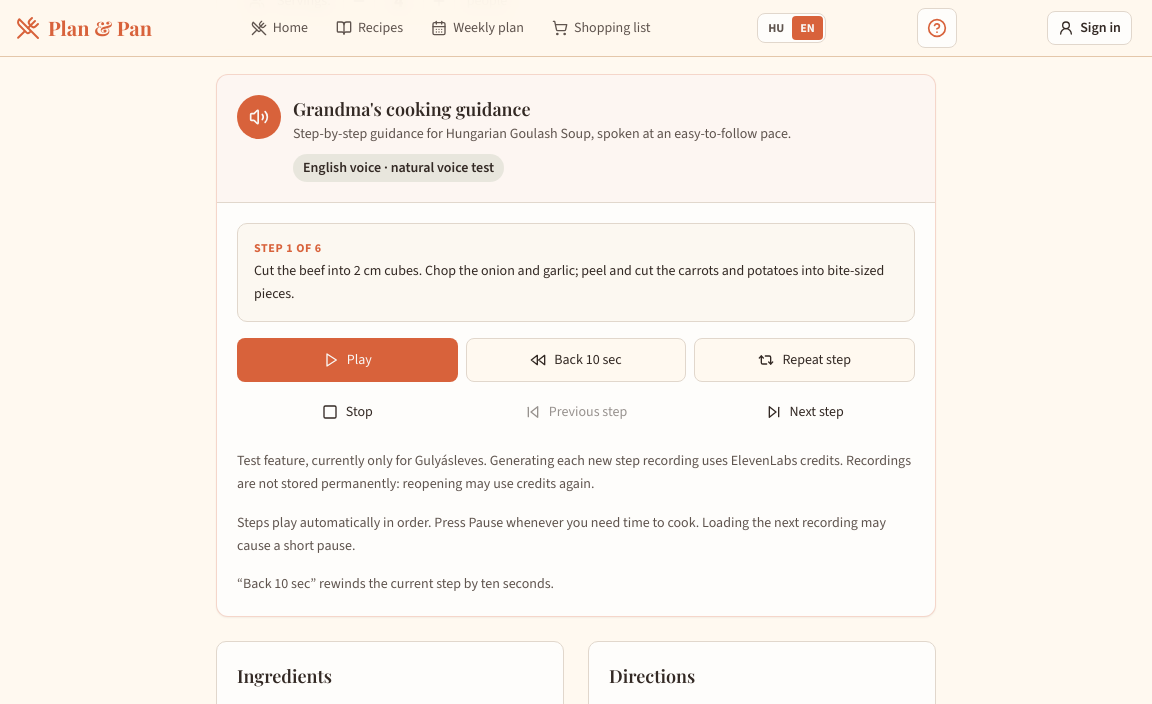
Test case: Hungarian and English custom voice guidance › only offers test guidance for soup-2: soup-2 in en
(page scrolled)
Expected: the element with test id "recipe-narrator" shows "Cut the beef into 2 cm cubes. Chop the onion and garlic; peel and cut the carrots and potatoes into bite-sized pieces.", [254,261,884,303]
Step 1. Click the button "Play" → [347, 360], box [237,338,458,382]
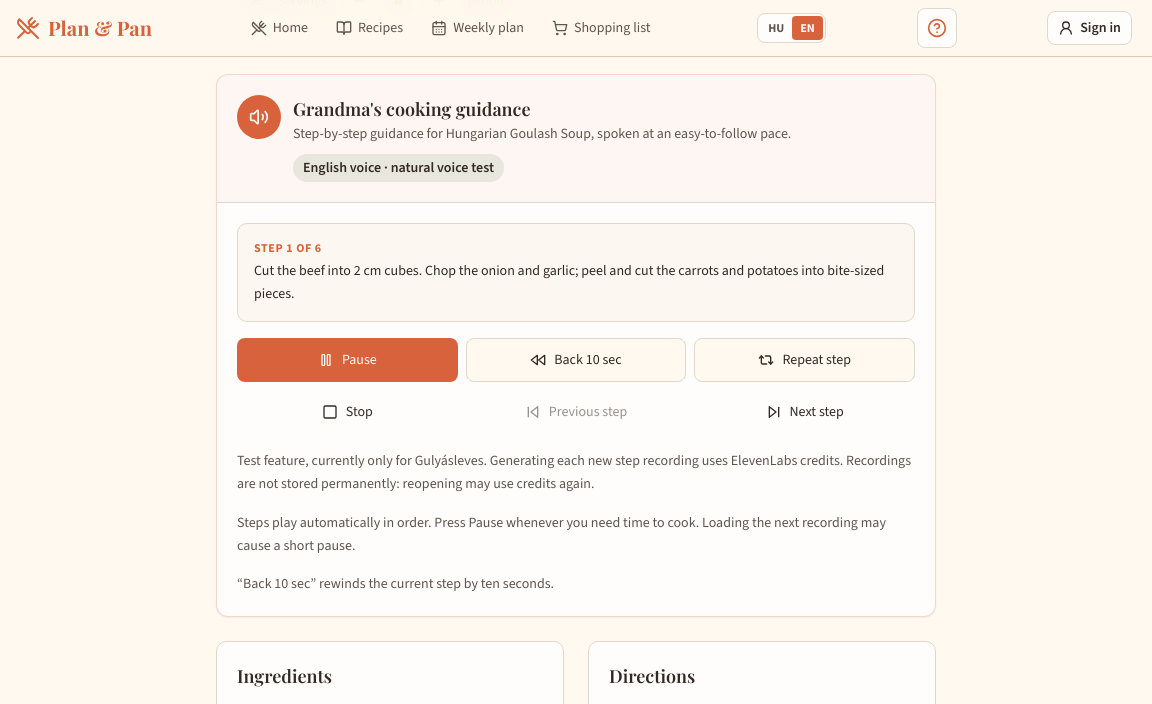
Expected: the button "Pause" is shown, [237,338,458,382]
